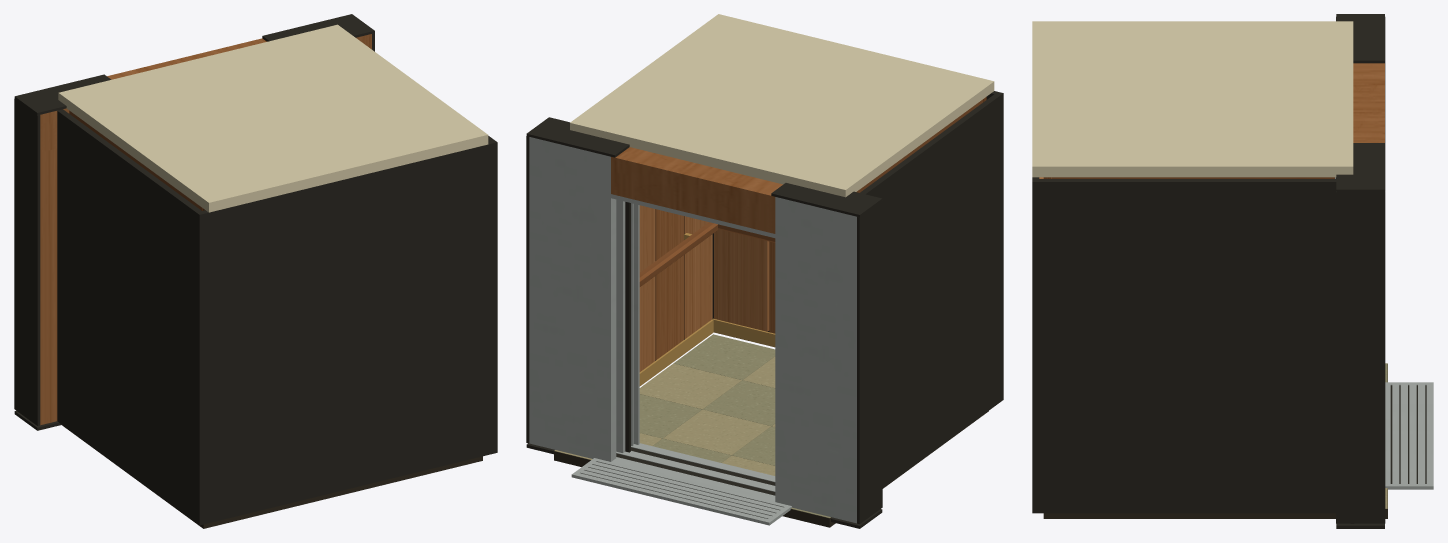
The model's file is elevator_cabin_70s.glb.
3 views of the same model, side by side, from view 1: azimuth 30°, elevation 25°; view 2: azimuth 150°, elevation 25°; view 3: azimuth 270°, elevation 25° (orthographic). The views are drawn at different scales.
Visible parts, largest first — view 1: elevator_cabin_70s; view 2: elevator_cabin_70s; view 3: elevator_cabin_70s.
Boxes of the visible parts, x1=… form: elevator_cabin_70s: x1=14, y1=14, x2=497, y2=528; elevator_cabin_70s: x1=526, y1=14, x2=1003, y2=528; elevator_cabin_70s: x1=1032, y1=14, x2=1433, y2=528.
Bounding box in the file's own units: 2.9 × 2.71 × 2.8.
2 materials, 2 textured.
